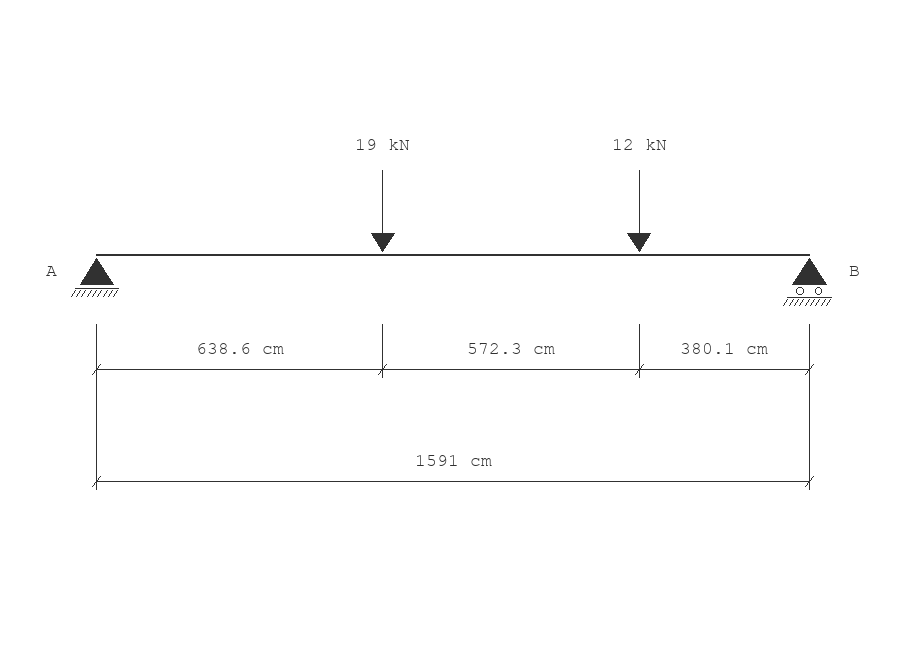pin_support: (71, 258, 119, 297)
point_load: (371, 170, 395, 252), (627, 170, 651, 252)
roller_support: (783, 258, 832, 306)
